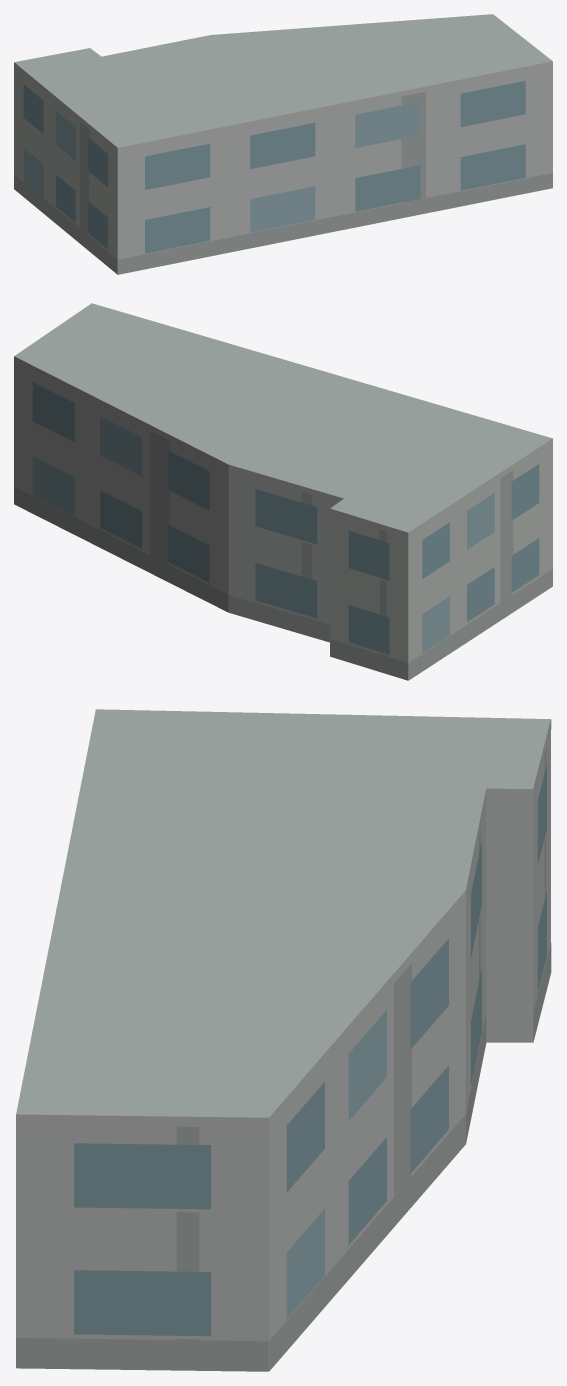
File: survey-upis-32704471.glb
3 views of the same model, one above another, from view 1: azimuth 30°, elevation 25°; view 2: azimuth 150°, elevation 25°; view 3: azimuth 270°, elevation 25° (orthographic). The views are drawn at different scales.
Parts seen in each view (by area): view 1: survey-upis-32704471.tmp; view 2: survey-upis-32704471.tmp; view 3: survey-upis-32704471.tmp.
Boxes of the visible parts, x1,y1,x2,y2 form: survey-upis-32704471.tmp: (14, 14, 552, 274); survey-upis-32704471.tmp: (14, 303, 552, 680); survey-upis-32704471.tmp: (16, 709, 551, 1371).
Size of the model in its own units: 21.06 by 6.1 by 11.66.
